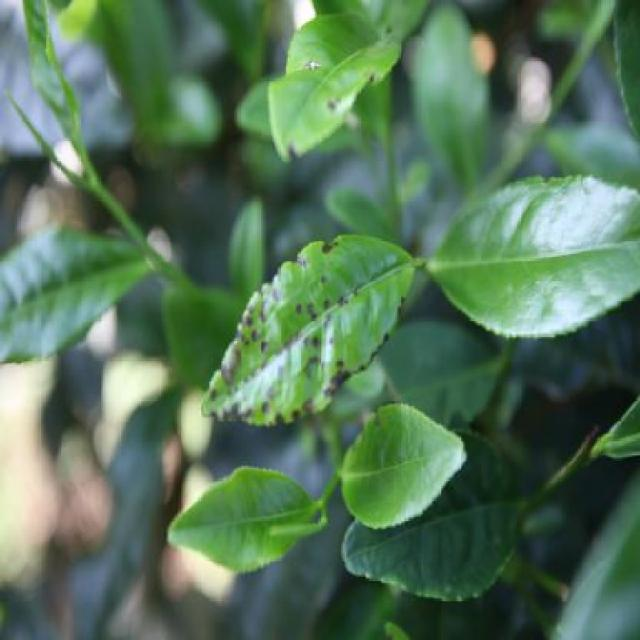Tea Mosquito bug infested leaf: (196, 234, 410, 426)
